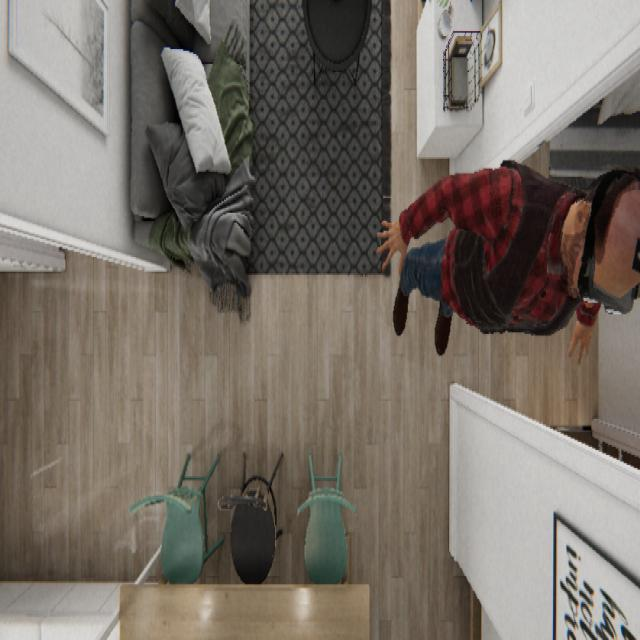Human: (376, 158, 638, 364)
